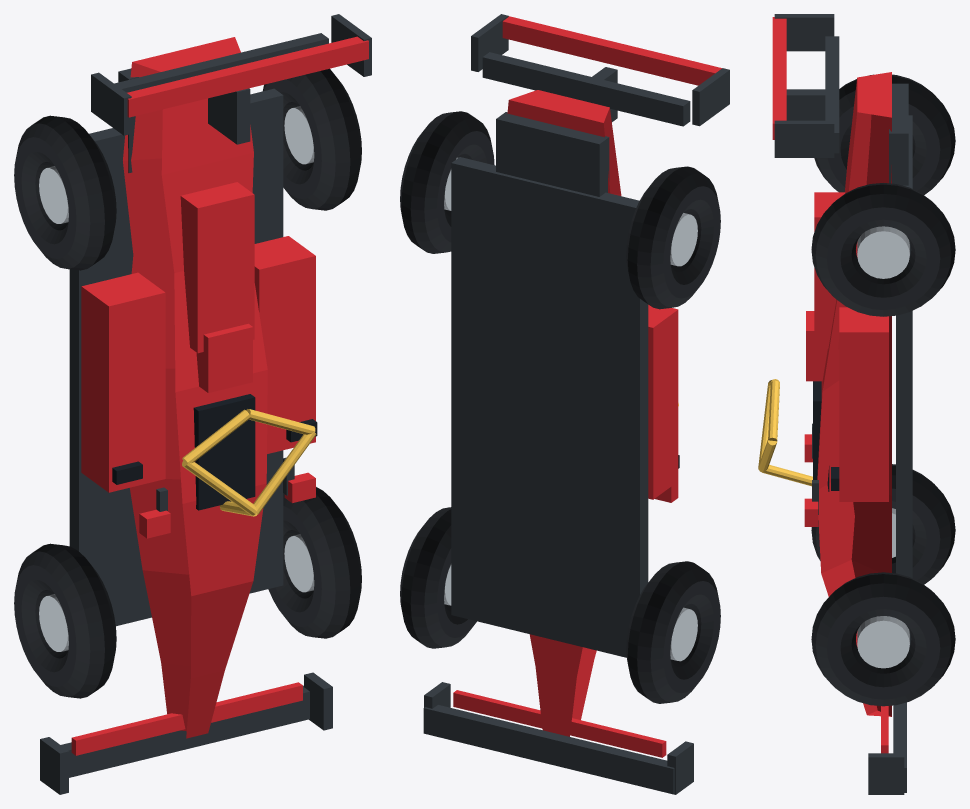
File: f1_race_car.glb
The picture shows the model from 3 angles, left to right: view 1: azimuth 30°, elevation 25°; view 2: azimuth 150°, elevation 25°; view 3: azimuth 270°, elevation 25°; orthographic projection. The views are drawn at different scales.
Visible parts, largest first — view 1: Stylized_F1_Race_Car; view 2: Stylized_F1_Race_Car; view 3: Stylized_F1_Race_Car.
Boxes of the visible parts, box(x1,y1,x2,y2) form: Stylized_F1_Race_Car: box(14, 14, 371, 794); Stylized_F1_Race_Car: box(400, 14, 729, 794); Stylized_F1_Race_Car: box(758, 14, 955, 794).
Bounding box in the file's own units: 2.16 × 5.3 × 1.42.
